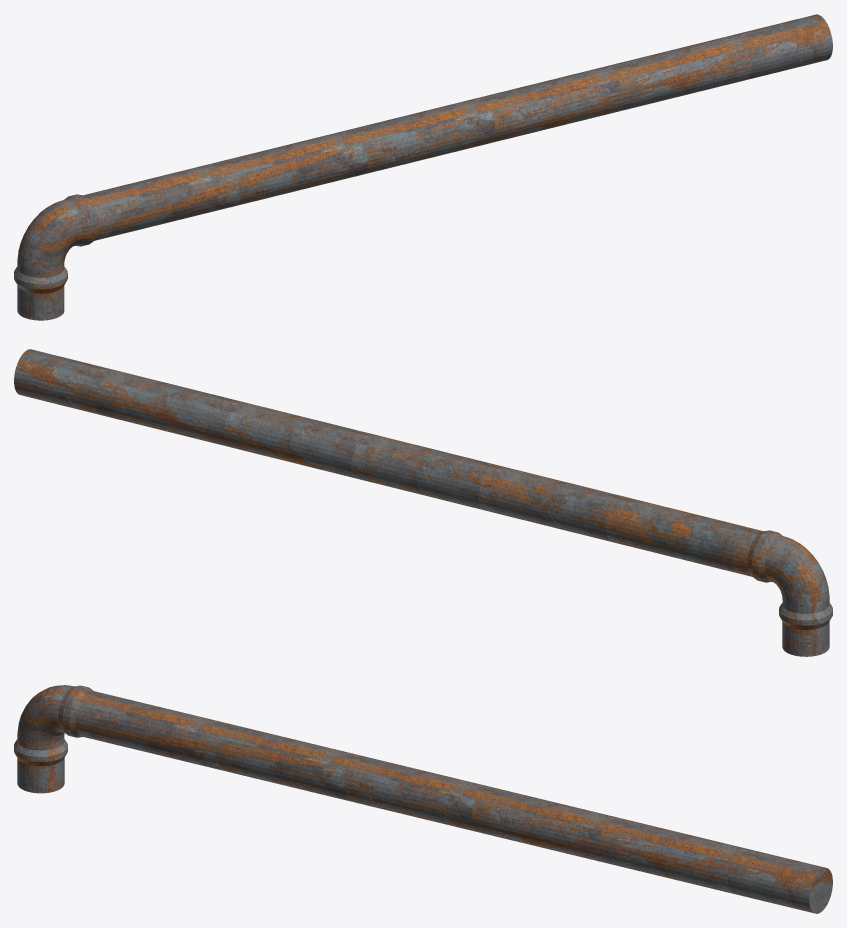
The model's file is pipe.fbx.
The picture shows the model from 3 angles, top to bottom: view 1: azimuth 30°, elevation 25°; view 2: azimuth 150°, elevation 25°; view 3: azimuth 330°, elevation 25°; orthographic projection.
Visible parts, largest first — view 1: Pipe; view 2: Pipe; view 3: Pipe.
Boxes of the visible parts, left/top/right/bottom form: Pipe: left=14, top=14, right=832, bottom=320; Pipe: left=14, top=349, right=832, bottom=656; Pipe: left=14, top=685, right=832, bottom=913.
Bounding box in the file's own units: 232 × 28.93 × 13.49.
